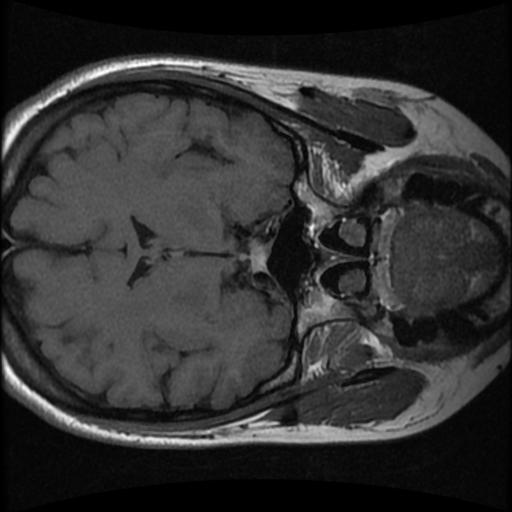pituitary tumour: (248, 246, 266, 271)
